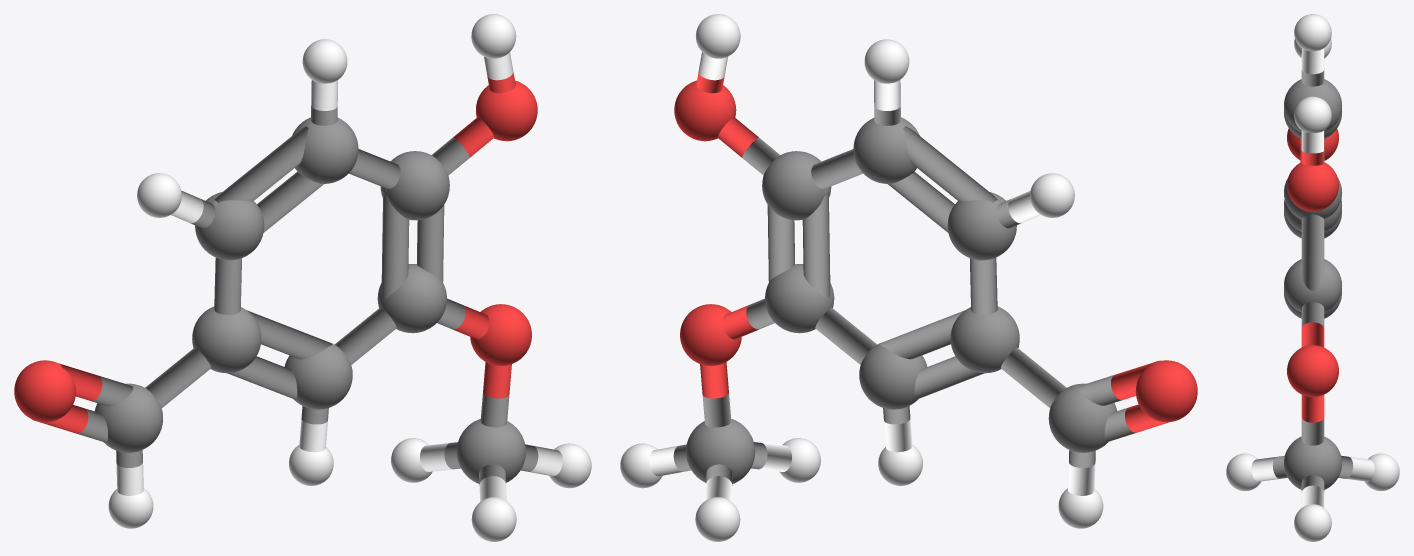
File: vanillin.glb
3 views of the same model, side by side, from view 1: azimuth 30°, elevation 25°; view 2: azimuth 150°, elevation 25°; view 3: azimuth 270°, elevation 25° (orthographic). The views are drawn at different scales.
Parts seen in each view (by area): view 1: vanillin; view 2: vanillin; view 3: vanillin.
Part boxes in pixels (left/top/right/bottom): vanillin: left=14, top=14, right=591, bottom=541; vanillin: left=620, top=14, right=1197, bottom=541; vanillin: left=1226, top=14, right=1399, bottom=541.
Size of the model in its own units: 7.42 by 6.27 by 2.33.
